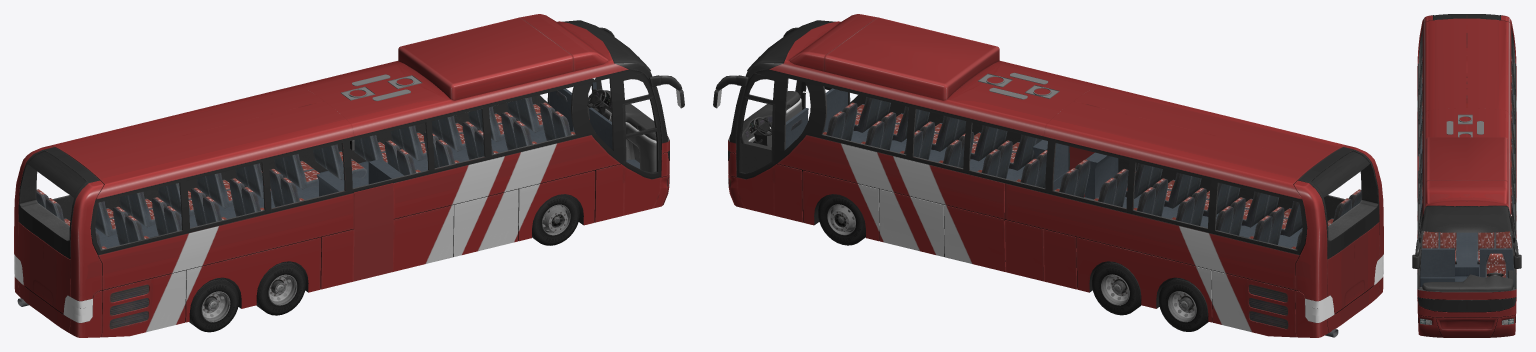
Rendered from man-lions-correct-rotation.glb.
3 views of the same model, side by side, from view 1: azimuth 30°, elevation 25°; view 2: azimuth 150°, elevation 25°; view 3: azimuth 270°, elevation 25° (orthographic). The views are drawn at different scales.
Visible parts, largest first — view 1: exterior, interior, door_r, door_f, dash, wheel_5, wheel_4, wheel_1, bus-roof-1-single-meshglb, refect_1, reflect_3, reflect_2; view 2: exterior, interior, dash, wheel_3, wheel_2, wheel, bus-roof-1-single-meshglb, refect, reflect, reflect_1; view 3: exterior, interior, dash, bus-roof-1-single-meshglb.
Part boxes in pixels (left/top/right/bottom): exterior: left=14, top=14, right=684, bottom=337; interior: left=19, top=67, right=669, bottom=250; door_r: left=353, top=183, right=393, bottom=281; door_f: left=622, top=96, right=661, bottom=215; dash: left=587, top=89, right=656, bottom=172; wheel_5: left=189, top=277, right=238, bottom=332; wheel_4: left=256, top=261, right=305, bottom=315; wheel_1: left=532, top=194, right=579, bottom=245; bus-roof-1-single-meshglb: left=341, top=74, right=595, bottom=150; refect_1: left=542, top=204, right=570, bottom=235; reflect_3: left=201, top=291, right=229, bottom=322; reflect_2: left=268, top=274, right=296, bottom=305; exterior: left=713, top=14, right=1383, bottom=337; interior: left=728, top=67, right=1378, bottom=250; dash: left=729, top=91, right=802, bottom=172; wheel_3: left=1159, top=277, right=1208, bottom=331; wheel_2: left=1092, top=261, right=1141, bottom=315; wheel: left=818, top=194, right=865, bottom=245; bus-roof-1-single-meshglb: left=803, top=72, right=1059, bottom=99; refect: left=827, top=204, right=855, bottom=235; reflect: left=1101, top=274, right=1129, bottom=305; reflect_1: left=1168, top=291, right=1196, bottom=321; exterior: left=1412, top=14, right=1521, bottom=337; interior: left=1417, top=30, right=1516, bottom=292; dash: left=1422, top=270, right=1513, bottom=292; bus-roof-1-single-meshglb: left=1446, top=114, right=1511, bottom=215.
Size of the model in its own units: 11.83 by 3.41 by 2.48.
27 materials, 9 textured.
